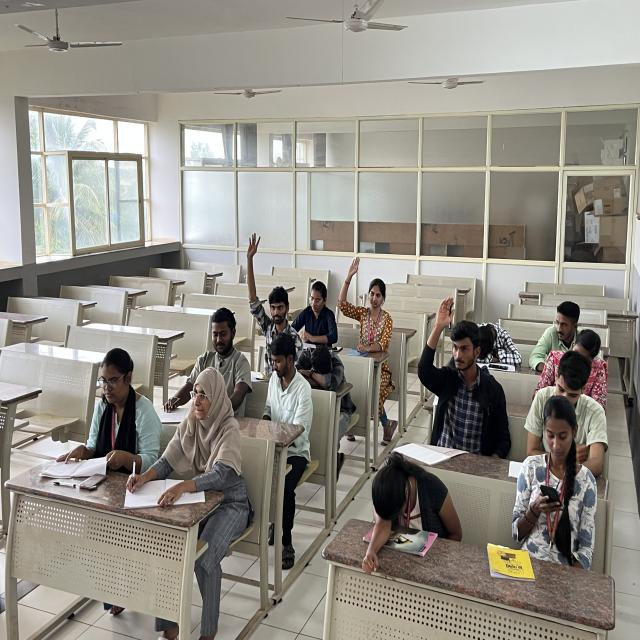Hand Rising: (418, 293, 501, 456), (239, 230, 300, 347), (341, 250, 394, 372)
Reading: (44, 344, 162, 488)
Sleeping: (361, 448, 466, 565), (296, 338, 358, 416), (476, 308, 526, 378)
Using Phone: (512, 397, 600, 569)
Writing: (128, 372, 248, 536), (156, 299, 254, 426), (539, 323, 608, 399), (288, 279, 343, 350)
